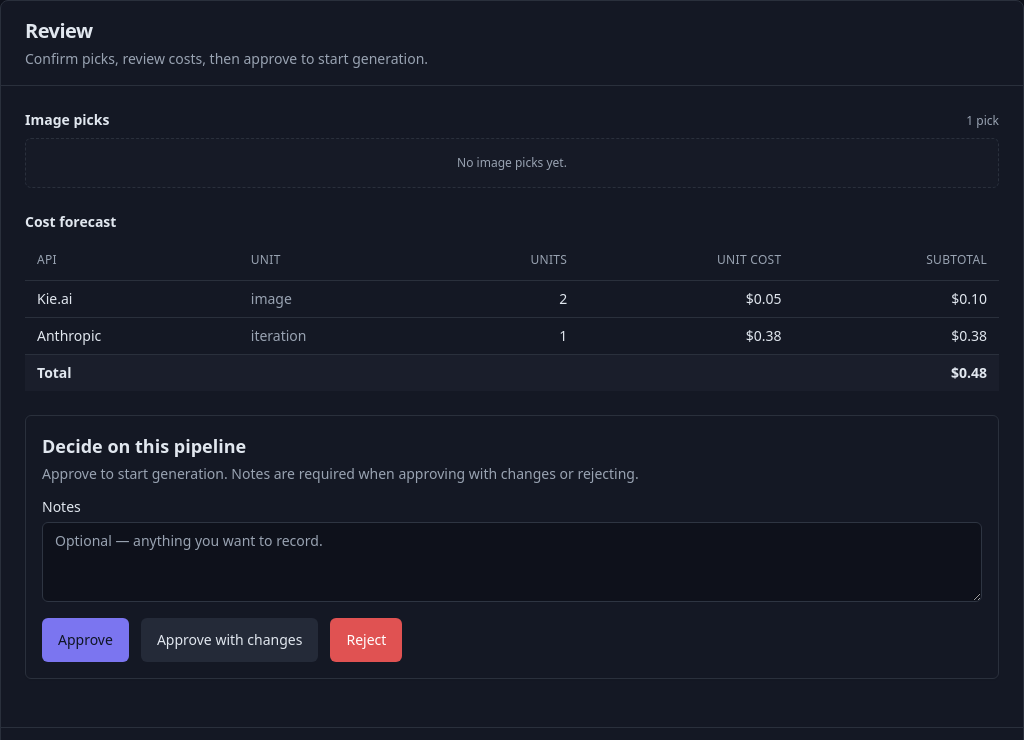
Test case: StageReview › approval gate validates notes for approve_with_changes
The image size is (1024, 740).
Click the button "Approve with changes" at (230, 640), box [141,618,318,662]
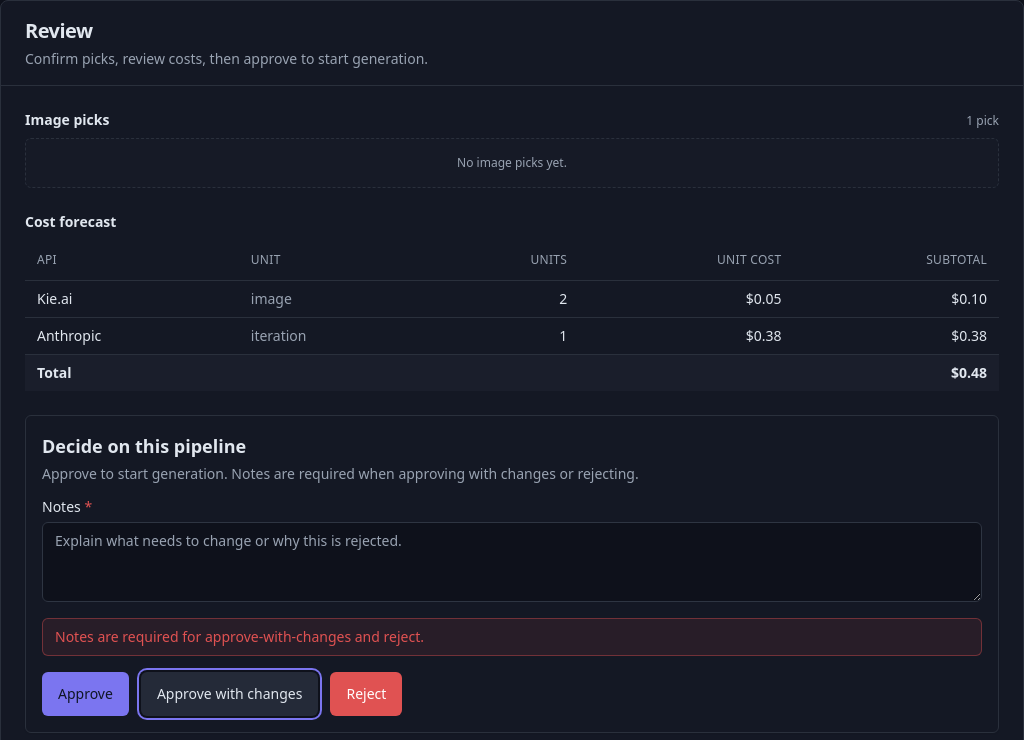
Now the message shows "Notes are required", box [55,626,424,646]
